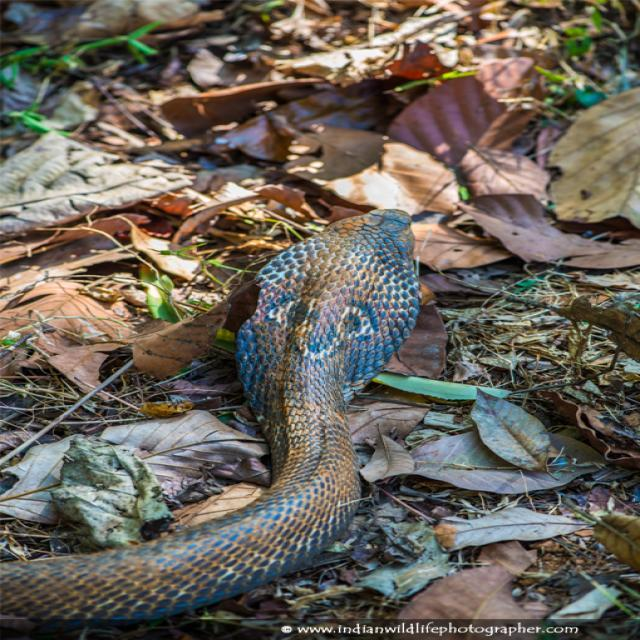Snake: (0, 206, 422, 624)
